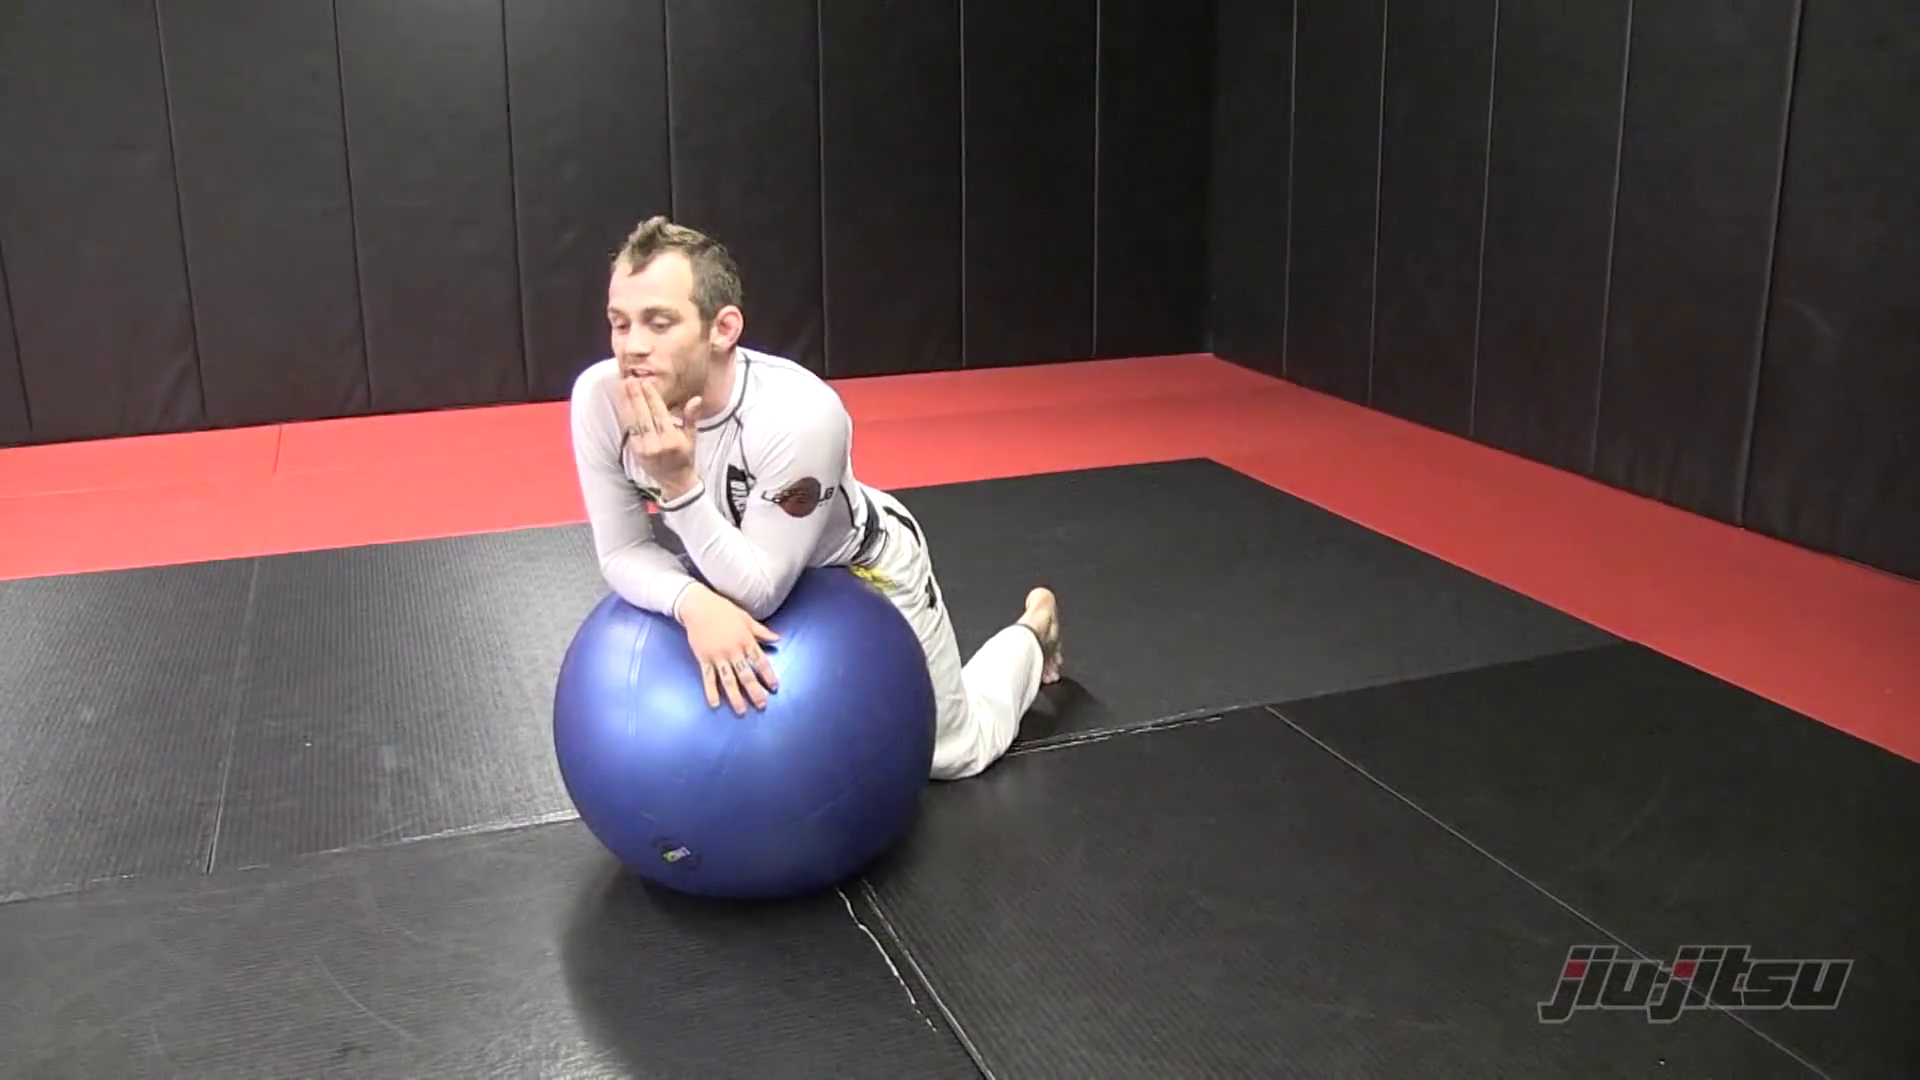yogaball: (538, 560, 957, 927)
